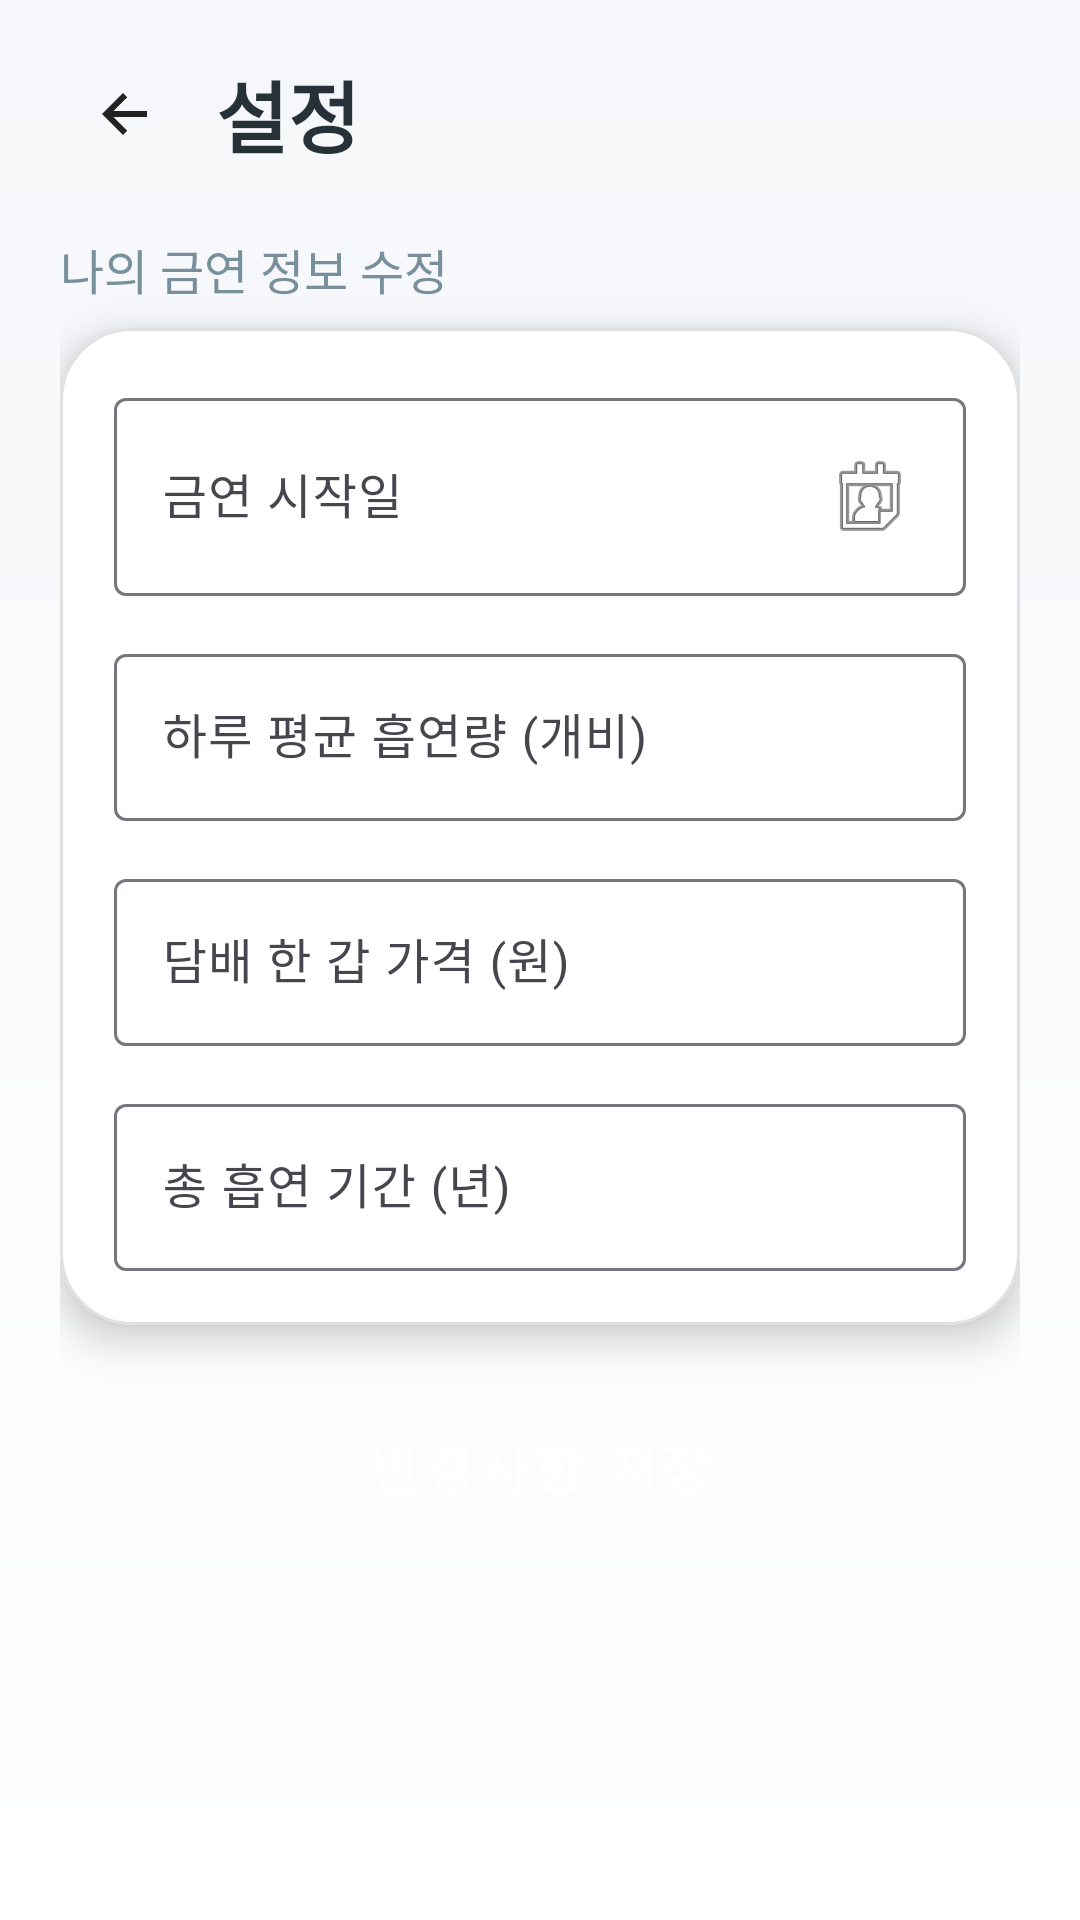

Icon bounding boxes for this 1080px×1920px phone screenshot, format bbox(x1, y1, x2, y2):
Back: bbox(102, 93, 147, 135)
